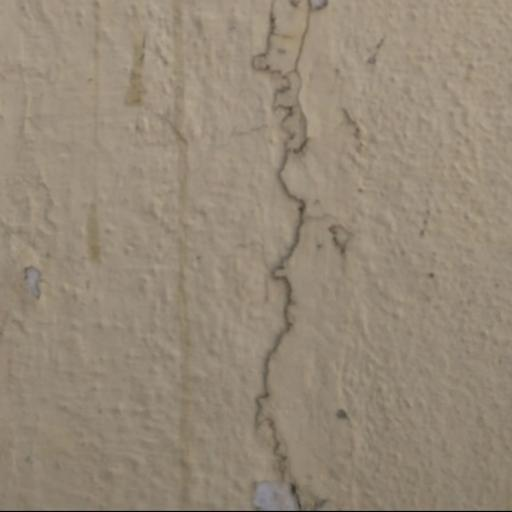minor_crack: (222, 0, 358, 512)
